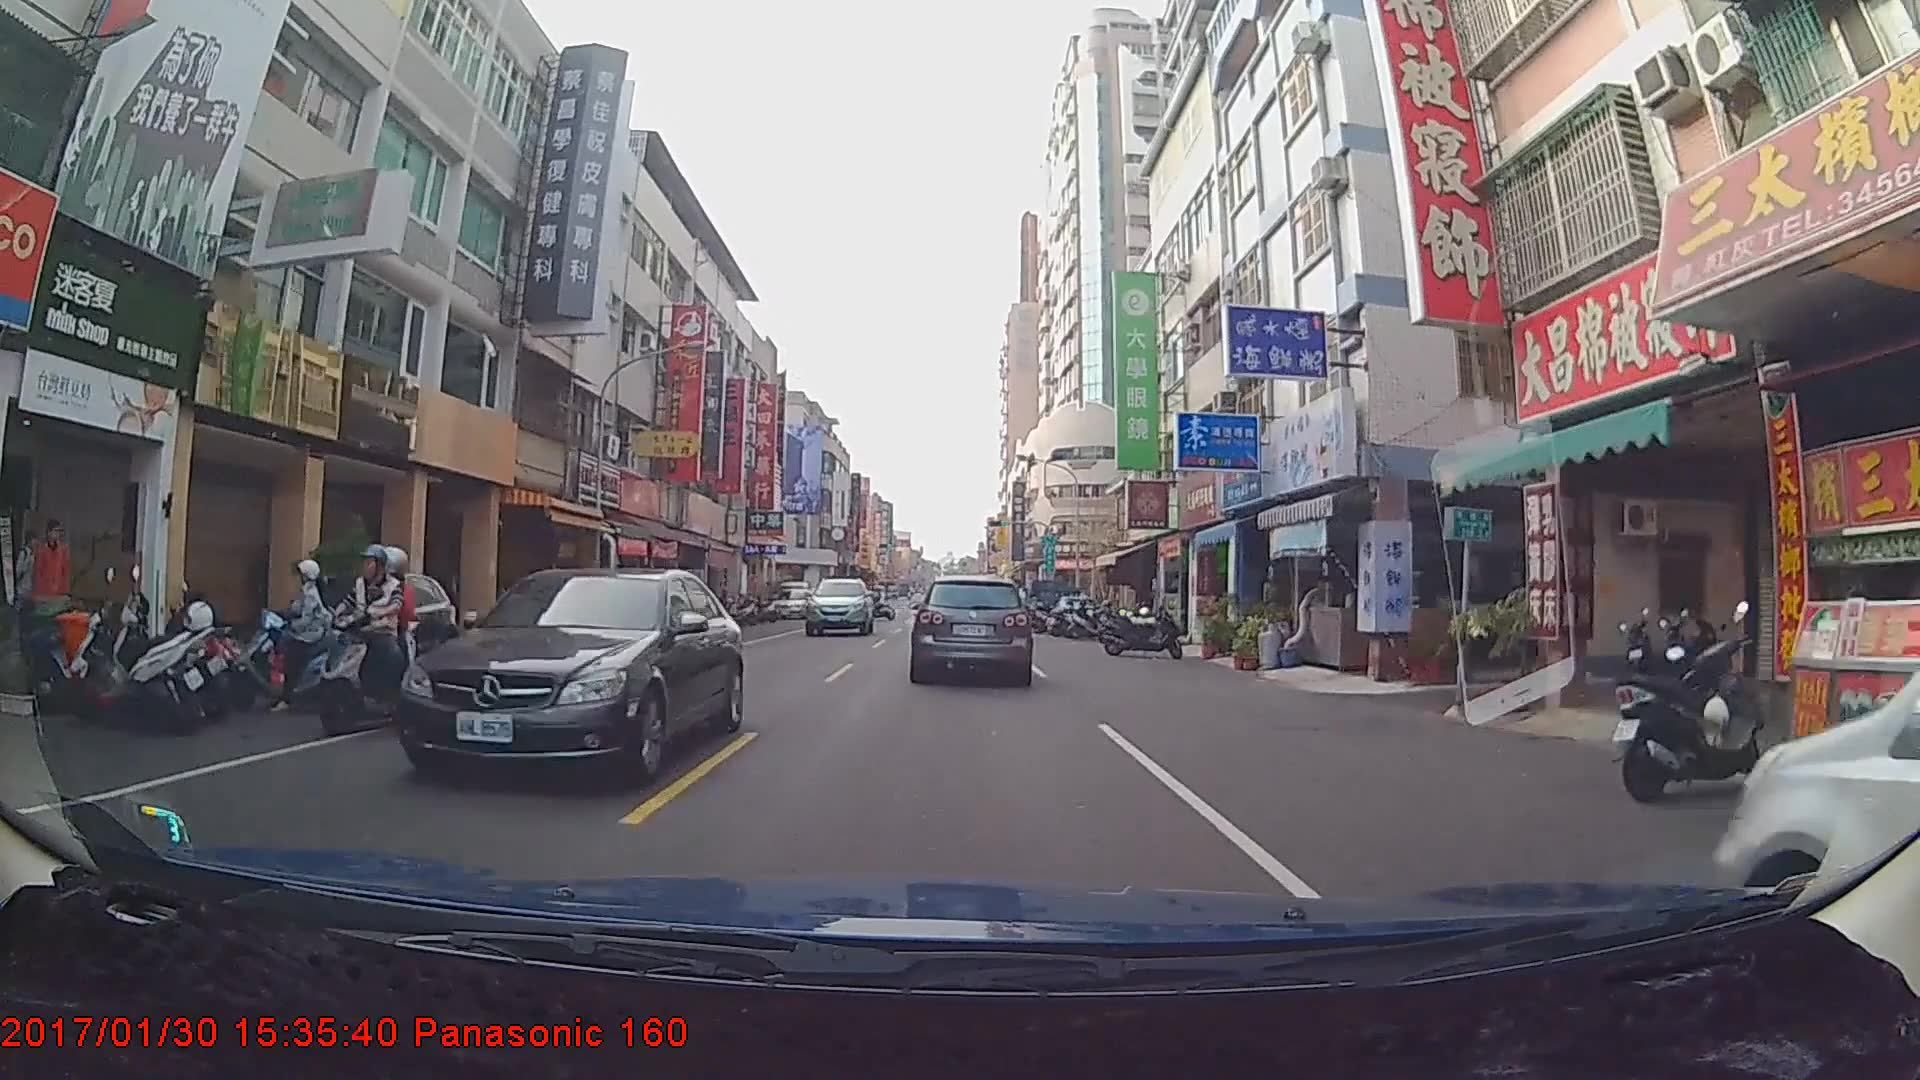pedestrian: (30, 510, 78, 647), (8, 521, 47, 639)
rider: (303, 542, 431, 740)
vehicle: (1708, 478, 1920, 1027), (395, 564, 744, 789), (910, 574, 1030, 683), (805, 577, 873, 638), (1024, 574, 1076, 621)
